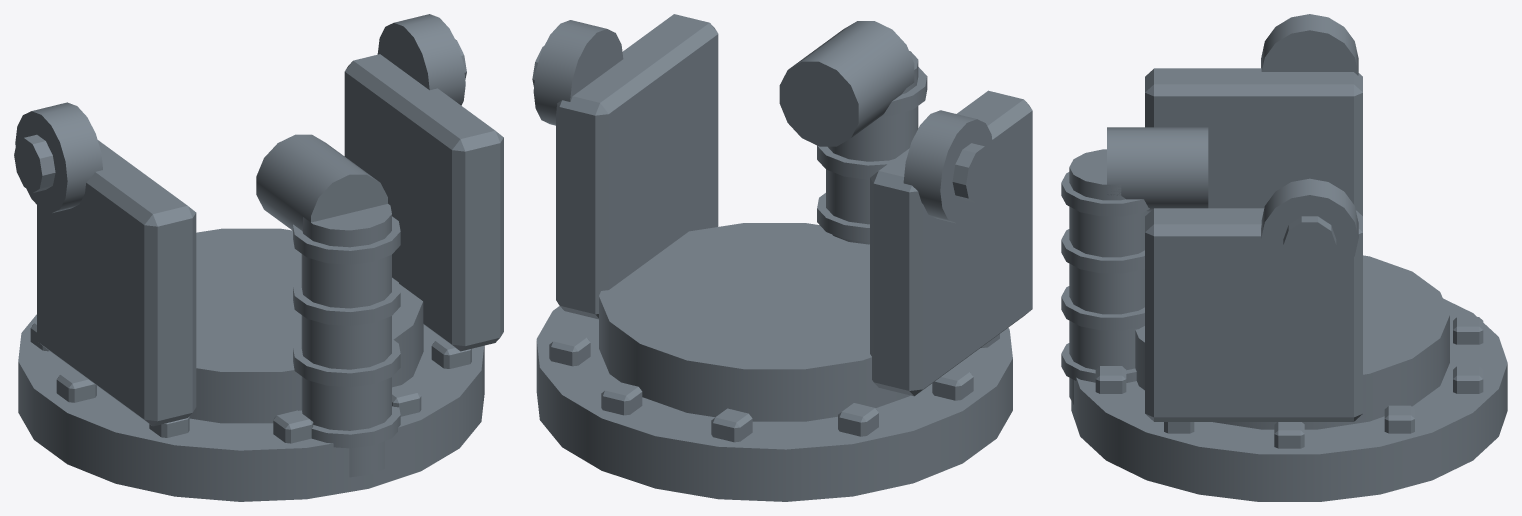
The model's file is coilgun_mount.glb.
3 renders of one model, left to right at view 1: azimuth 30°, elevation 25°; view 2: azimuth 150°, elevation 25°; view 3: azimuth 270°, elevation 25°, orthographic. The views are drawn at different scales.
Visible parts, largest first — view 1: coilgun_mount; view 2: coilgun_mount; view 3: coilgun_mount.
Part boxes in pixels (left/top/right/bottom): coilgun_mount: left=14, top=14, right=503, bottom=501; coilgun_mount: left=532, top=14, right=1032, bottom=501; coilgun_mount: left=1061, top=14, right=1507, bottom=501.
Bounding box in the file's own units: 0.45 × 0.333 × 0.44.
